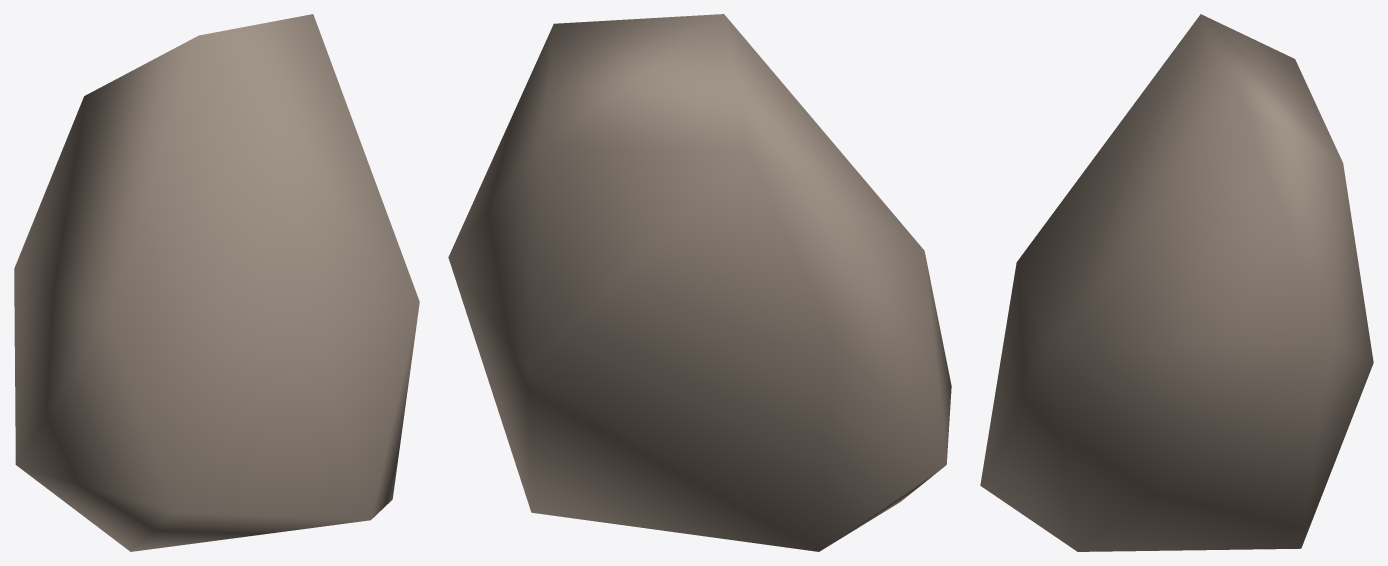
File: Rock 3.fbx
The picture shows the model from 3 angles, left to right: view 1: azimuth 30°, elevation 25°; view 2: azimuth 150°, elevation 25°; view 3: azimuth 270°, elevation 25°; orthographic projection. The views are drawn at different scales.
Parts seen in each view (by area): view 1: Rock 3; view 2: Rock 3; view 3: Rock 3.
Boxes of the visible parts, box(x1,y1,x2,y2) form: Rock 3: box(14, 14, 419, 551); Rock 3: box(448, 14, 951, 551); Rock 3: box(980, 14, 1373, 551).
Bounding box in the file's own units: 0.4938 × 0.5578 × 0.4226.
